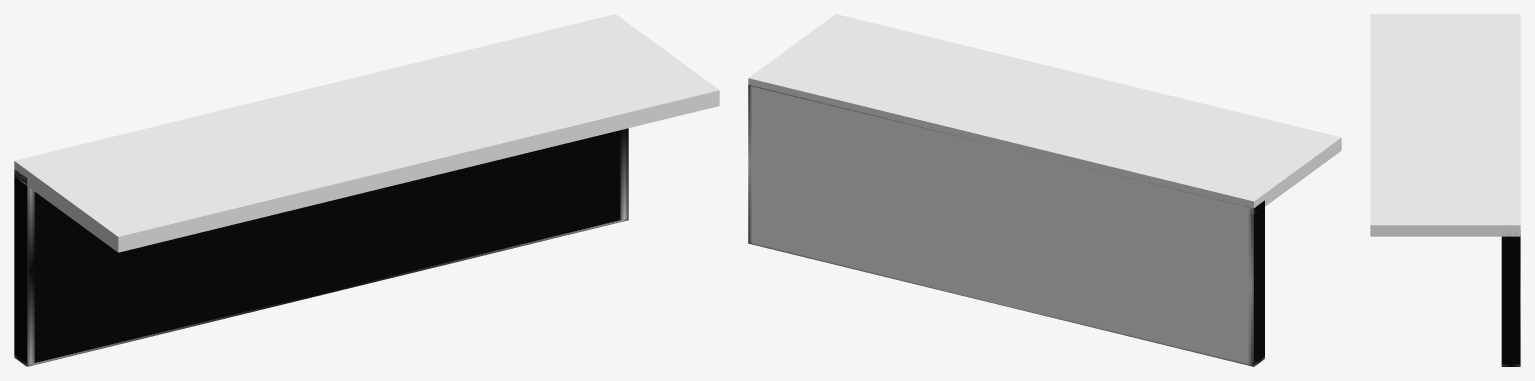
Rendered from judgesDesk.obj.
3 views of the same model, side by side, from view 1: azimuth 30°, elevation 25°; view 2: azimuth 150°, elevation 25°; view 3: azimuth 270°, elevation 25° (orthographic). The views are drawn at different scales.
Visible parts, largest first — view 1: judgesDesk; view 2: judgesDesk; view 3: judgesDesk.
Boxes of the visible parts, x1=… form: judgesDesk: x1=14, y1=14, x2=719, y2=366; judgesDesk: x1=748, y1=14, x2=1341, y2=366; judgesDesk: x1=1370, y1=14, x2=1520, y2=366.
Size of the model in its own units: 4 by 1.25 by 1.2.
1 material, 1 textured.
